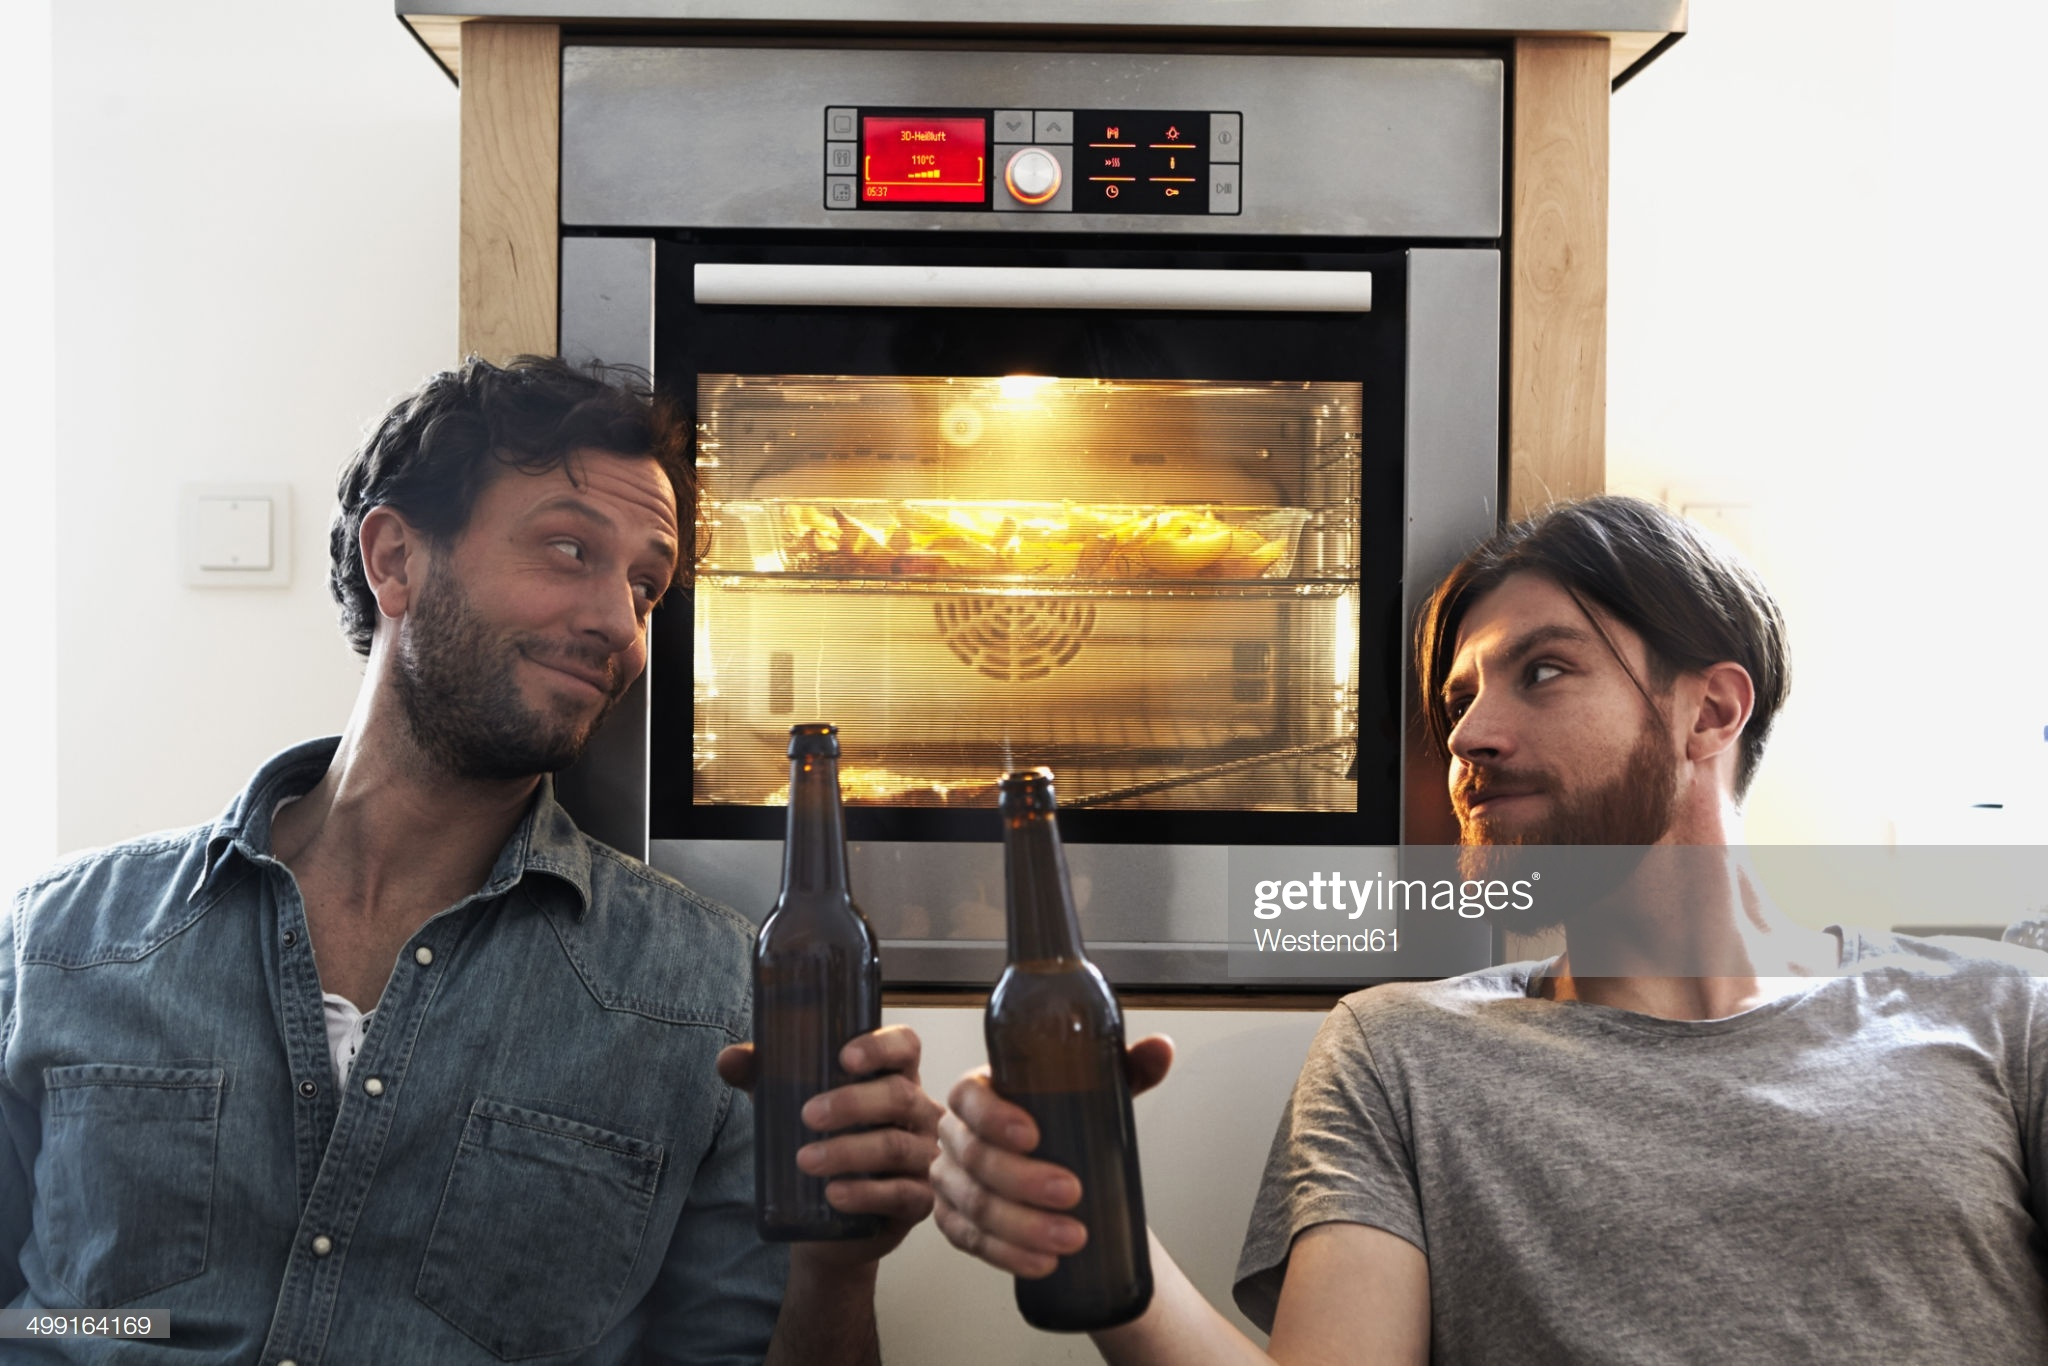beerBottle: (981, 771, 1166, 1326), (756, 729, 907, 1247)
